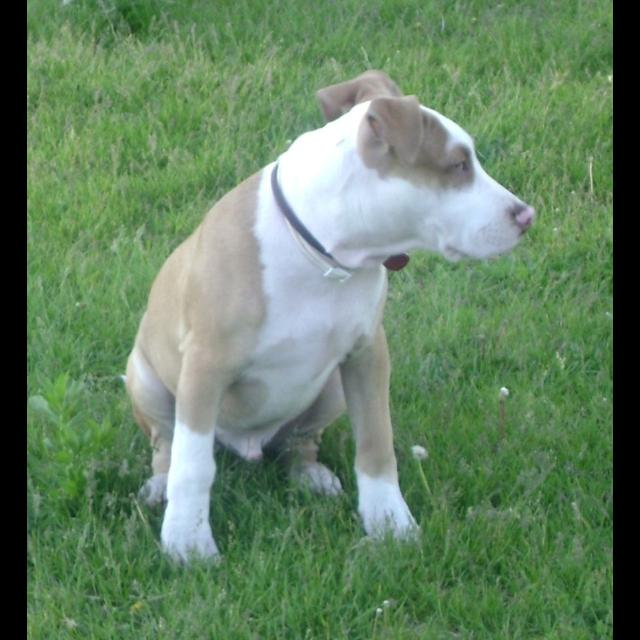am_pit_bull_terrier: (122, 69, 536, 569)
